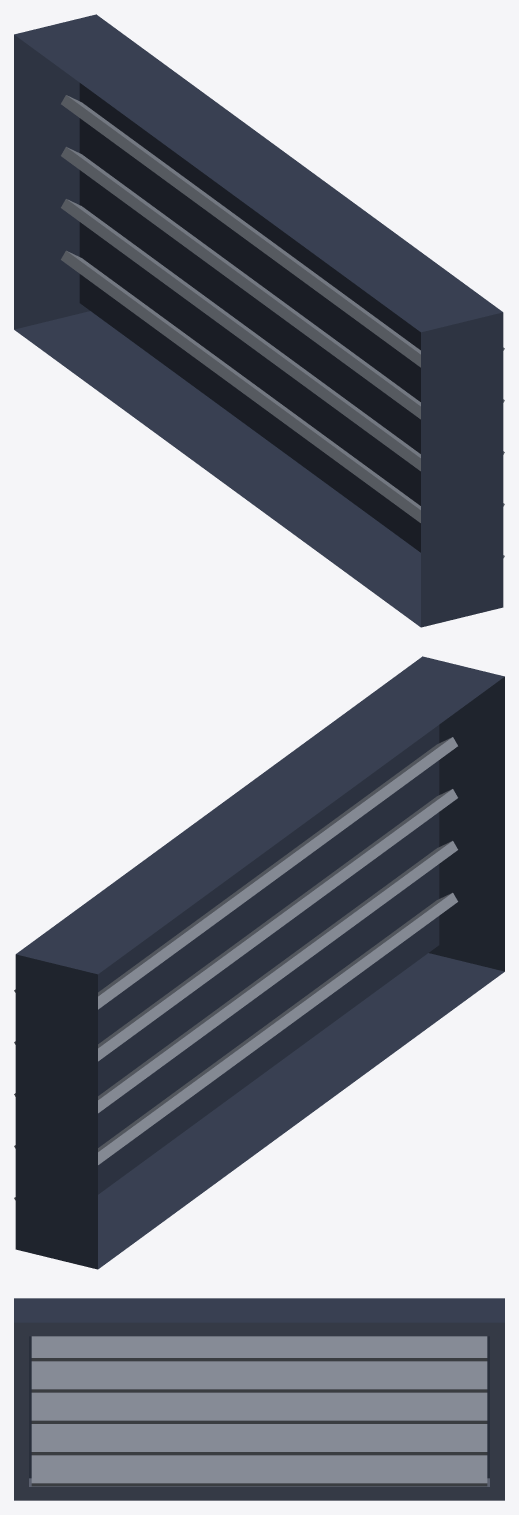
File: Ventilation.fbx
3 renders of one model, top to bottom at view 1: azimuth 30°, elevation 25°; view 2: azimuth 150°, elevation 25°; view 3: azimuth 270°, elevation 25°, orthographic. The views are drawn at different scales.
Visible parts, largest first — view 1: Ventilation1, Ventilation2; view 2: Ventilation1, Ventilation2; view 3: Ventilation2, Ventilation1.
Part boxes in pixels (x1,y1,x2,y2): Ventilation1: (14,14,503,627); Ventilation2: (61,95,504,558); Ventilation1: (15,656,504,1269); Ventilation2: (14,737,457,1200); Ventilation2: (31,1336,487,1486); Ventilation1: (14,1298,504,1500).
Bounding box in the file's own units: 20.57 × 58.83 × 147.
